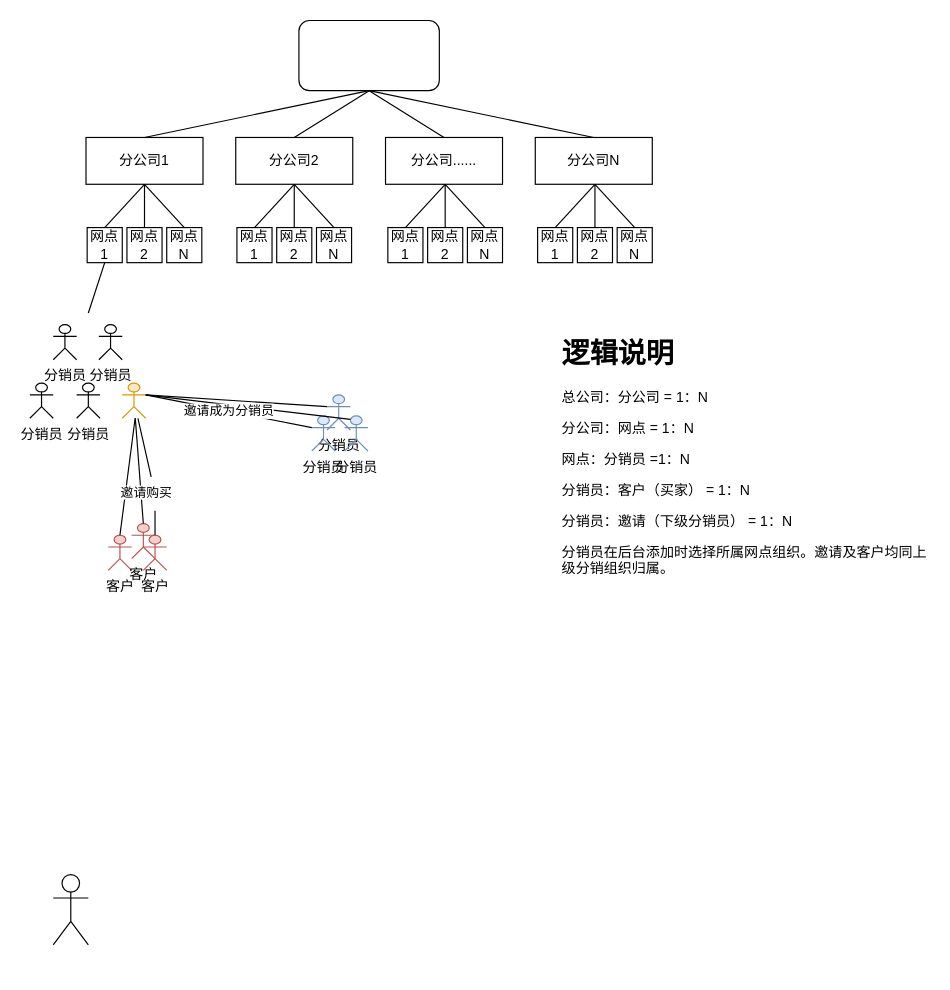
Some shapes in this 950 by 990 pixel diagram are drawn without their labels. The shapes that lost their labels are listed below. From the top down, each one's box as (x1, y1, x2, y2) in pixels, then its label:
(298, 19, 439, 91): 总公司
(121, 382, 146, 418): 分销员A
(52, 873, 88, 945): Actor
